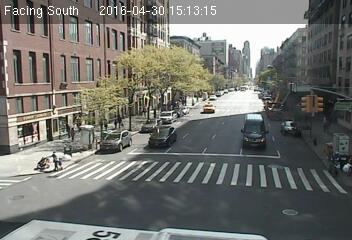neg: (201, 99, 219, 123), (105, 12, 122, 34), (39, 189, 55, 211), (131, 159, 146, 178), (334, 129, 349, 148), (183, 208, 198, 227), (292, 155, 306, 173), (8, 138, 22, 156), (189, 151, 202, 168), (243, 127, 255, 143), (56, 21, 67, 35), (103, 139, 113, 152), (163, 122, 172, 134), (78, 160, 86, 170), (156, 86, 163, 95)
pos: (46, 149, 62, 171), (319, 117, 333, 134), (67, 127, 78, 142), (56, 156, 67, 170), (113, 112, 123, 126), (63, 122, 72, 134), (112, 117, 120, 127)
